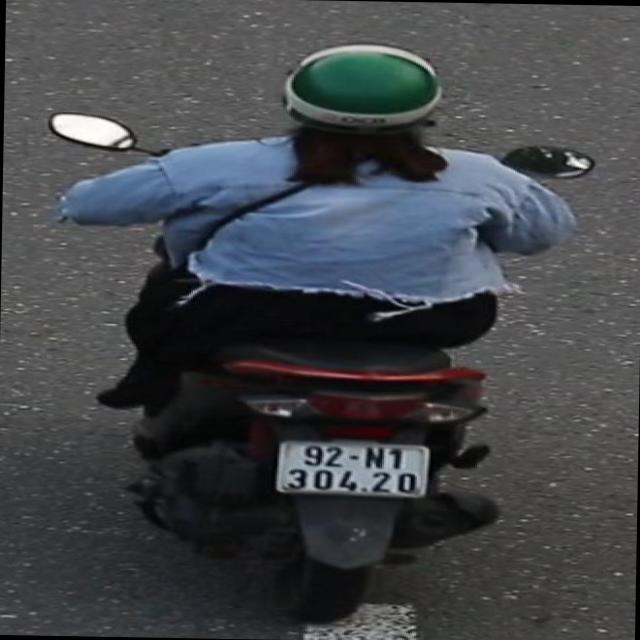LP: (268, 436, 436, 504)
helmet: (274, 39, 454, 180)
